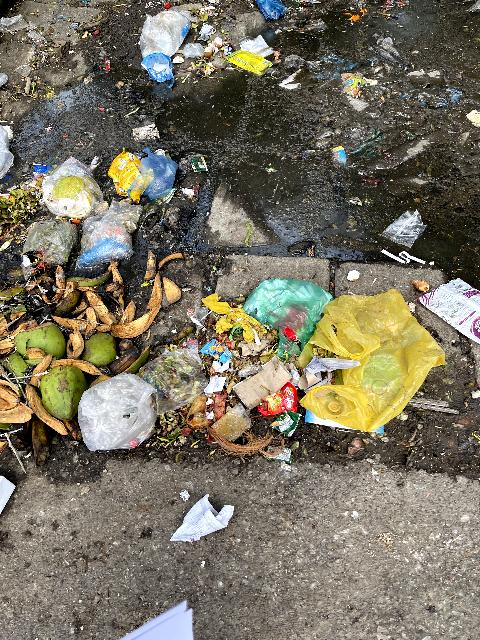polythene: (211, 285, 455, 429)
